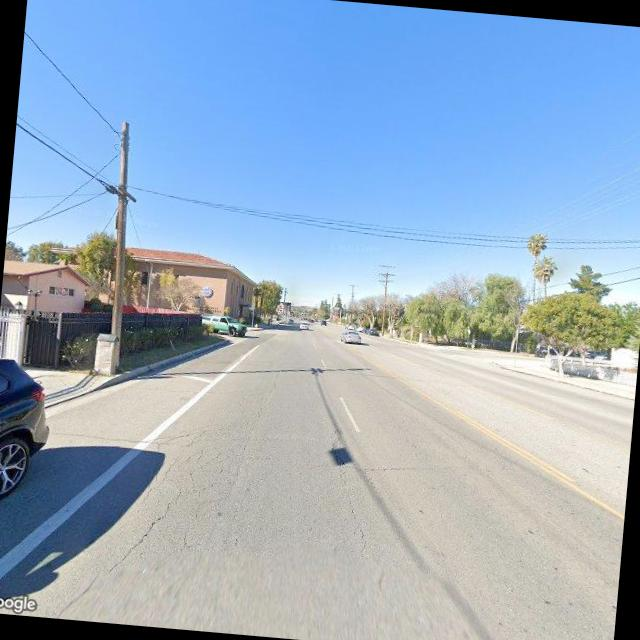crack: (108, 422, 234, 571)
pothole: (314, 415, 379, 555)
